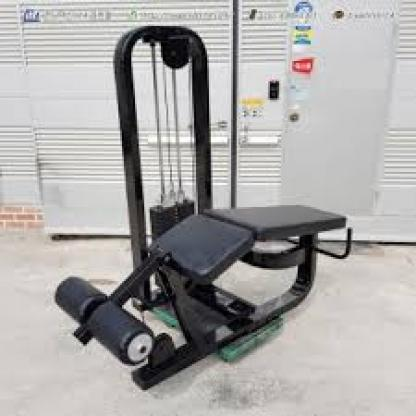reg curl machine: (54, 24, 355, 390)
